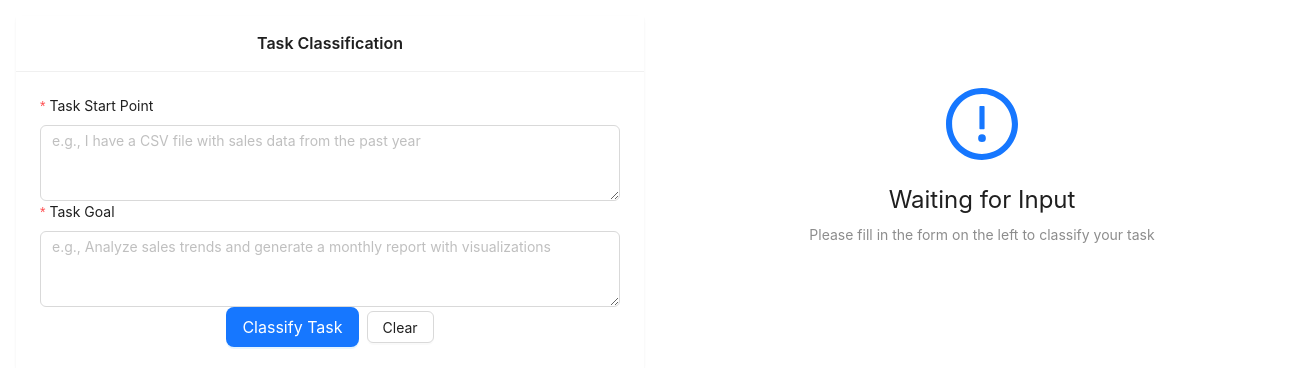
Test: TaskClassificationPage › should handle API errors gracefully
In the text box labelled "Task Start Point": point(330, 163) [40, 125, 620, 201], type "Start1"
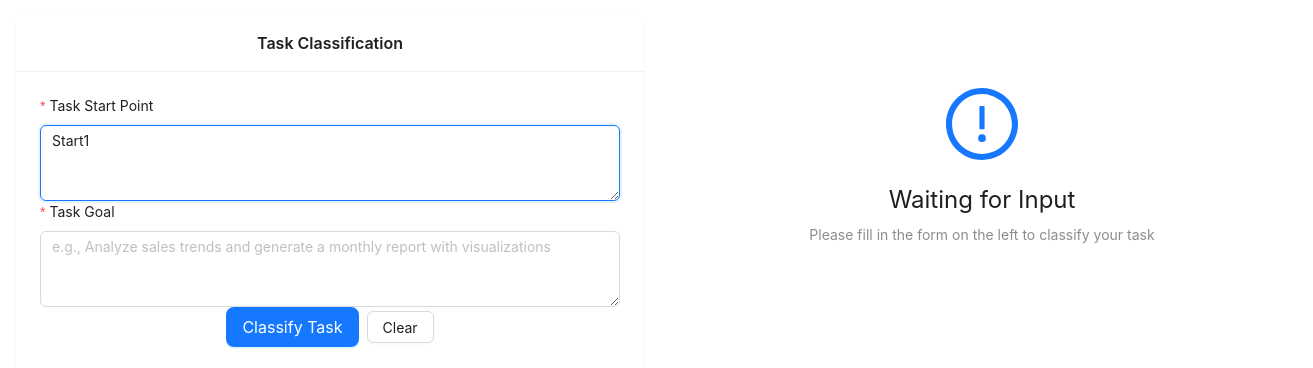
In the text box labelled "Task Goal": point(330, 269) [40, 231, 620, 307], type "Goal1"
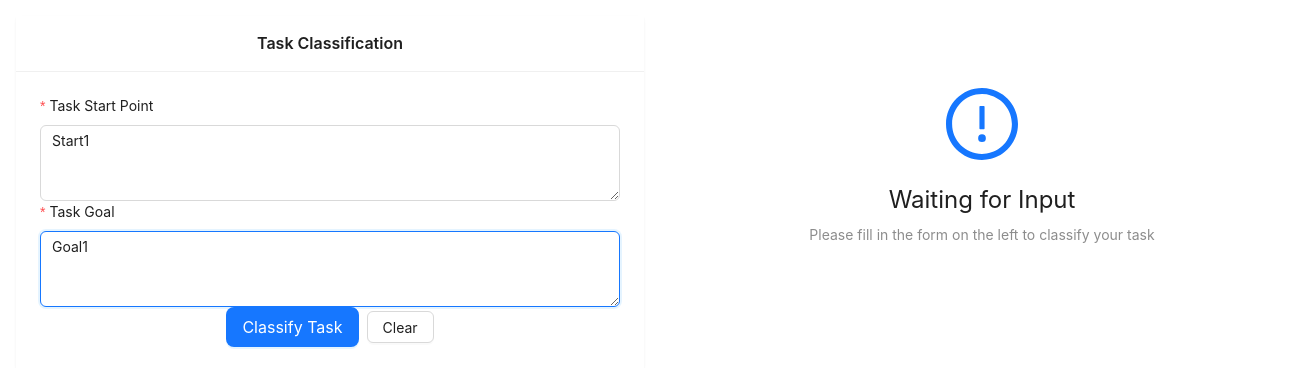
Click the button "Classify Task": point(292, 327) [226, 307, 358, 347]
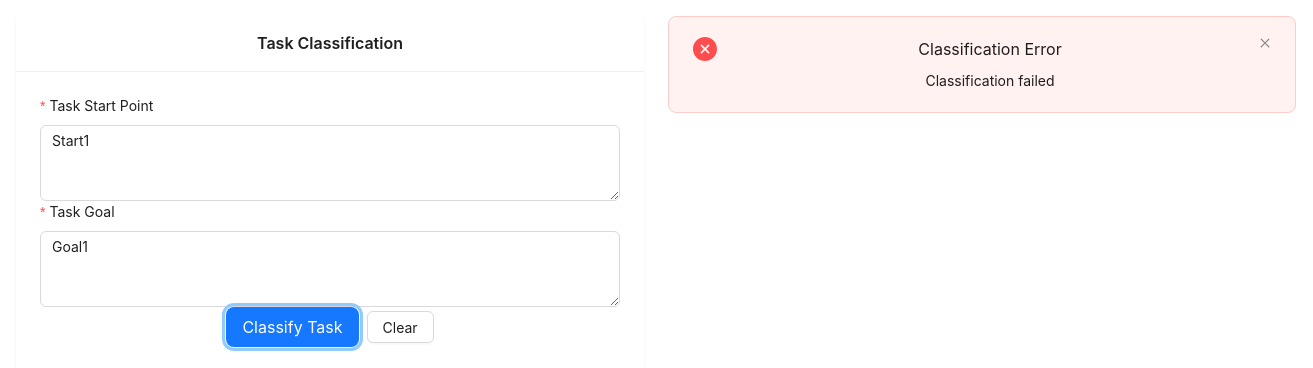
Check: the text "Classification Error" is shown, box [918, 39, 1062, 59]
